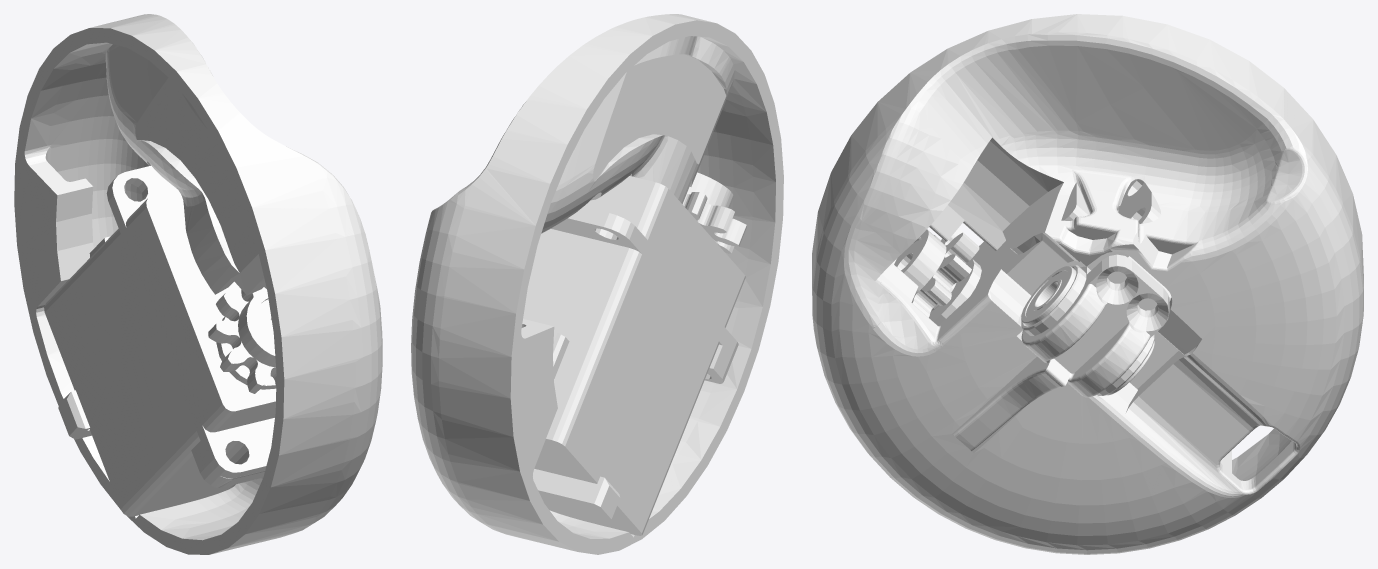
File: rh_thumb_metacarpals_base1_vis.obj
The picture shows the model from 3 angles, left to right: view 1: azimuth 30°, elevation 25°; view 2: azimuth 150°, elevation 25°; view 3: azimuth 270°, elevation 25°; orthographic projection. The views are drawn at different scales.
Parts seen in each view (by area): view 1: rh_thumb_metacarpals_base1; view 2: rh_thumb_metacarpals_base1; view 3: rh_thumb_metacarpals_base1.
Part boxes in pixels (<box>): rh_thumb_metacarpals_base1: <box>14,14,382,554</box>; rh_thumb_metacarpals_base1: <box>411,14,783,554</box>; rh_thumb_metacarpals_base1: <box>812,14,1363,554</box>.
Size of the model in its own units: 0.0223 by 0.0522 by 0.0521.
Materials: 1 (1 with a texture image).
